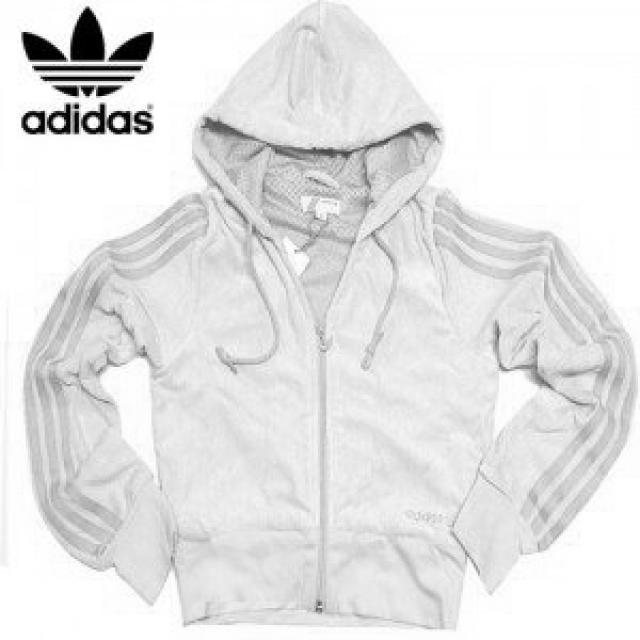Adidas: (19, 1, 160, 150)
